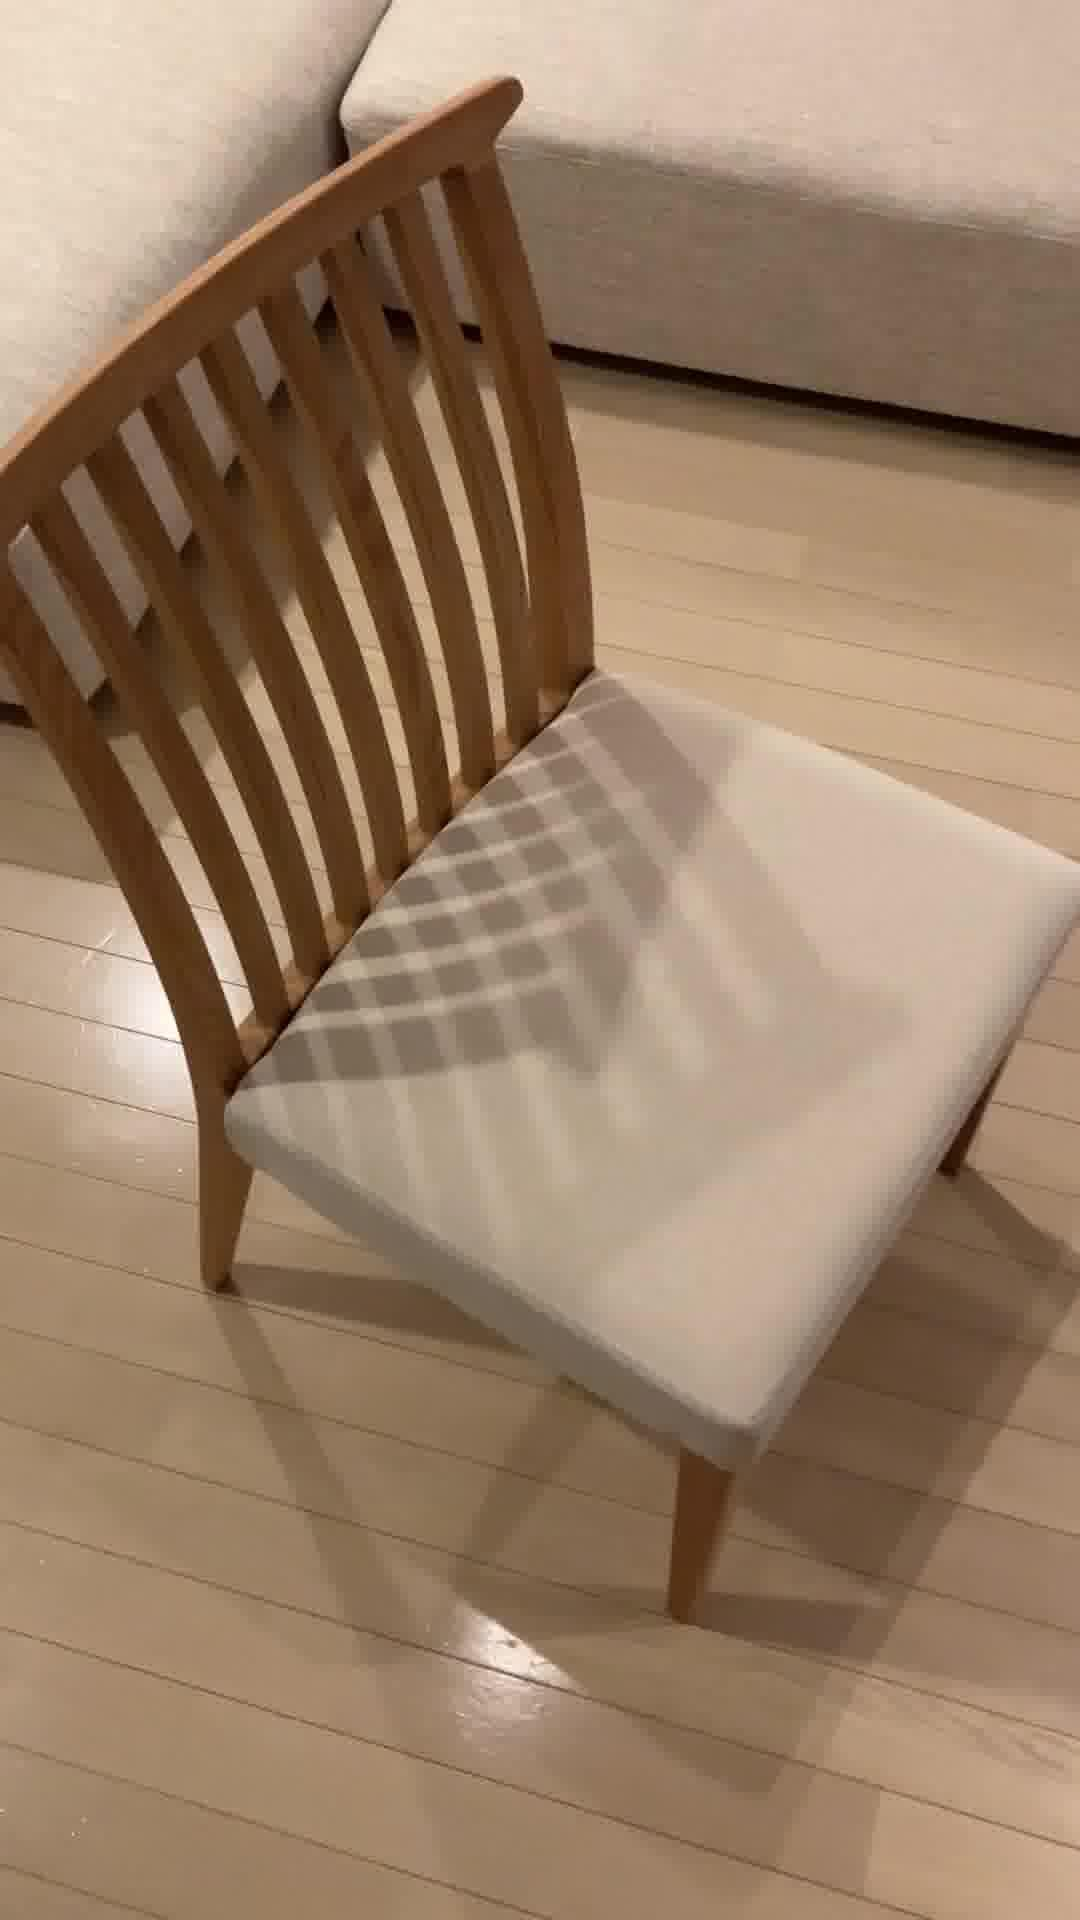takumikan-chair: (0, 73, 1080, 1623)
